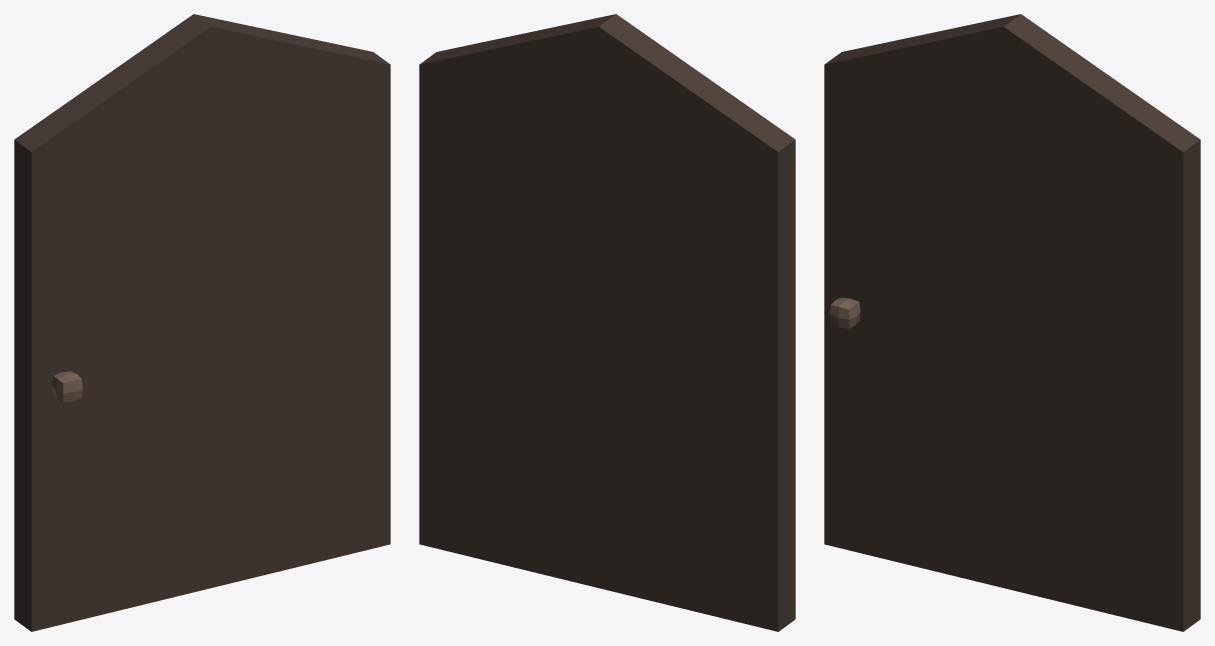
Rendered from Porta.fbx.
3 renders of one model, left to right at view 1: azimuth 30°, elevation 25°; view 2: azimuth 150°, elevation 25°; view 3: azimuth 330°, elevation 25°, orthographic.
Visible parts, largest first — view 1: Door; view 2: Door; view 3: Door.
Part boxes in pixels (box(x1,y1,x2,y2)): Door: box(14, 14, 390, 631); Door: box(419, 14, 795, 631); Door: box(824, 14, 1200, 631).
Bounding box in the file's own units: 478 × 714 × 73.33.
